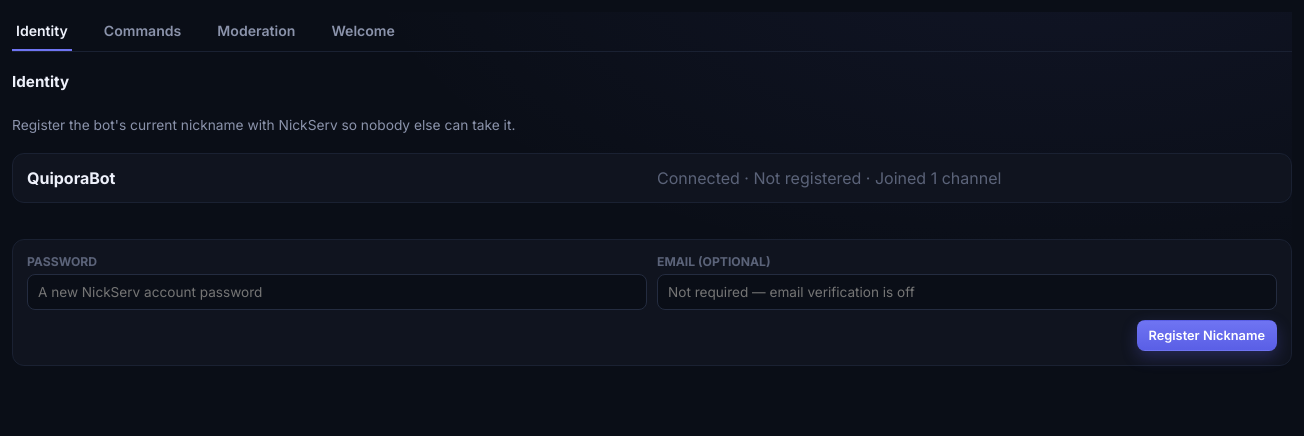
Test: IrcBotSettingsPanel › the Moderation tab shows the current banned words and action
What coordinates should you click on to do the following:
click the tab "Moderation"
I would click on:
 (256, 32)
Its box is [213,12,299,51].
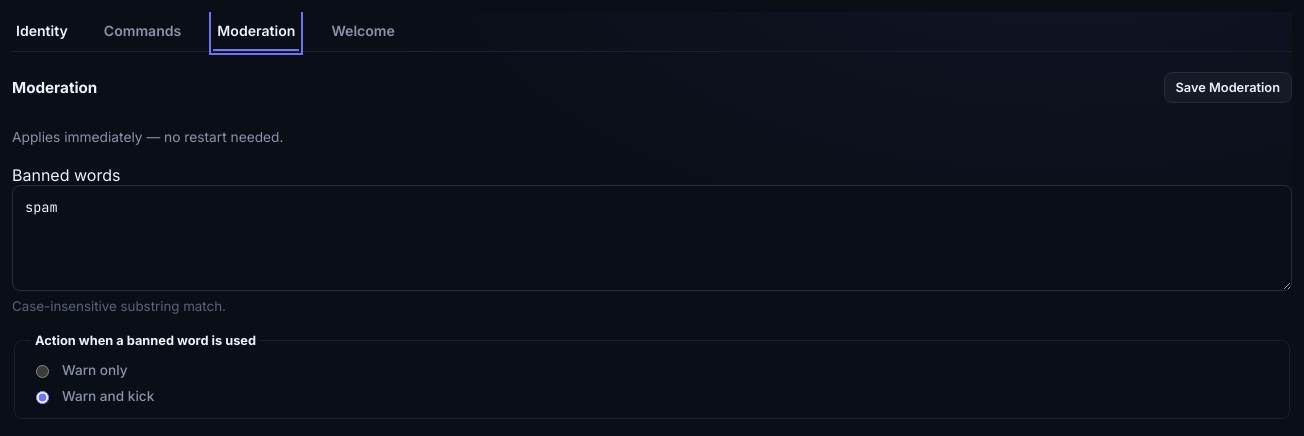
expect the text box showing "spam" is shown: met, box [12,185,1292,291]
expect the radio button labelled "Warn and kick" is checked: met, box [36,391,49,404]
